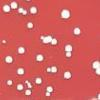white: (60, 7, 71, 22), (0, 4, 11, 15), (27, 4, 37, 15), (45, 85, 54, 97), (45, 65, 57, 73), (71, 25, 80, 35), (63, 43, 73, 52), (9, 0, 17, 11), (15, 67, 26, 75), (15, 83, 24, 92), (63, 71, 72, 80), (16, 46, 25, 54), (5, 56, 13, 65), (34, 77, 43, 85), (49, 36, 57, 45), (91, 60, 100, 68), (25, 81, 33, 89), (35, 54, 44, 61), (64, 51, 73, 58), (15, 6, 22, 14), (26, 22, 32, 31), (42, 37, 48, 45), (46, 35, 52, 43), (25, 91, 32, 97), (95, 67, 100, 75), (38, 34, 44, 40), (7, 80, 13, 86), (22, 10, 27, 16), (1, 38, 5, 44), (24, 0, 31, 3), (25, 80, 29, 84)
